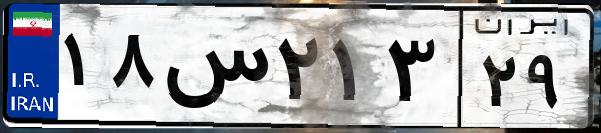1: (330, 28, 385, 110), (57, 26, 110, 100)
2: (270, 28, 330, 110), (475, 38, 525, 113)
3: (385, 28, 445, 110)
8: (110, 28, 158, 98)
9: (525, 38, 570, 115)
س: (158, 20, 270, 120)
